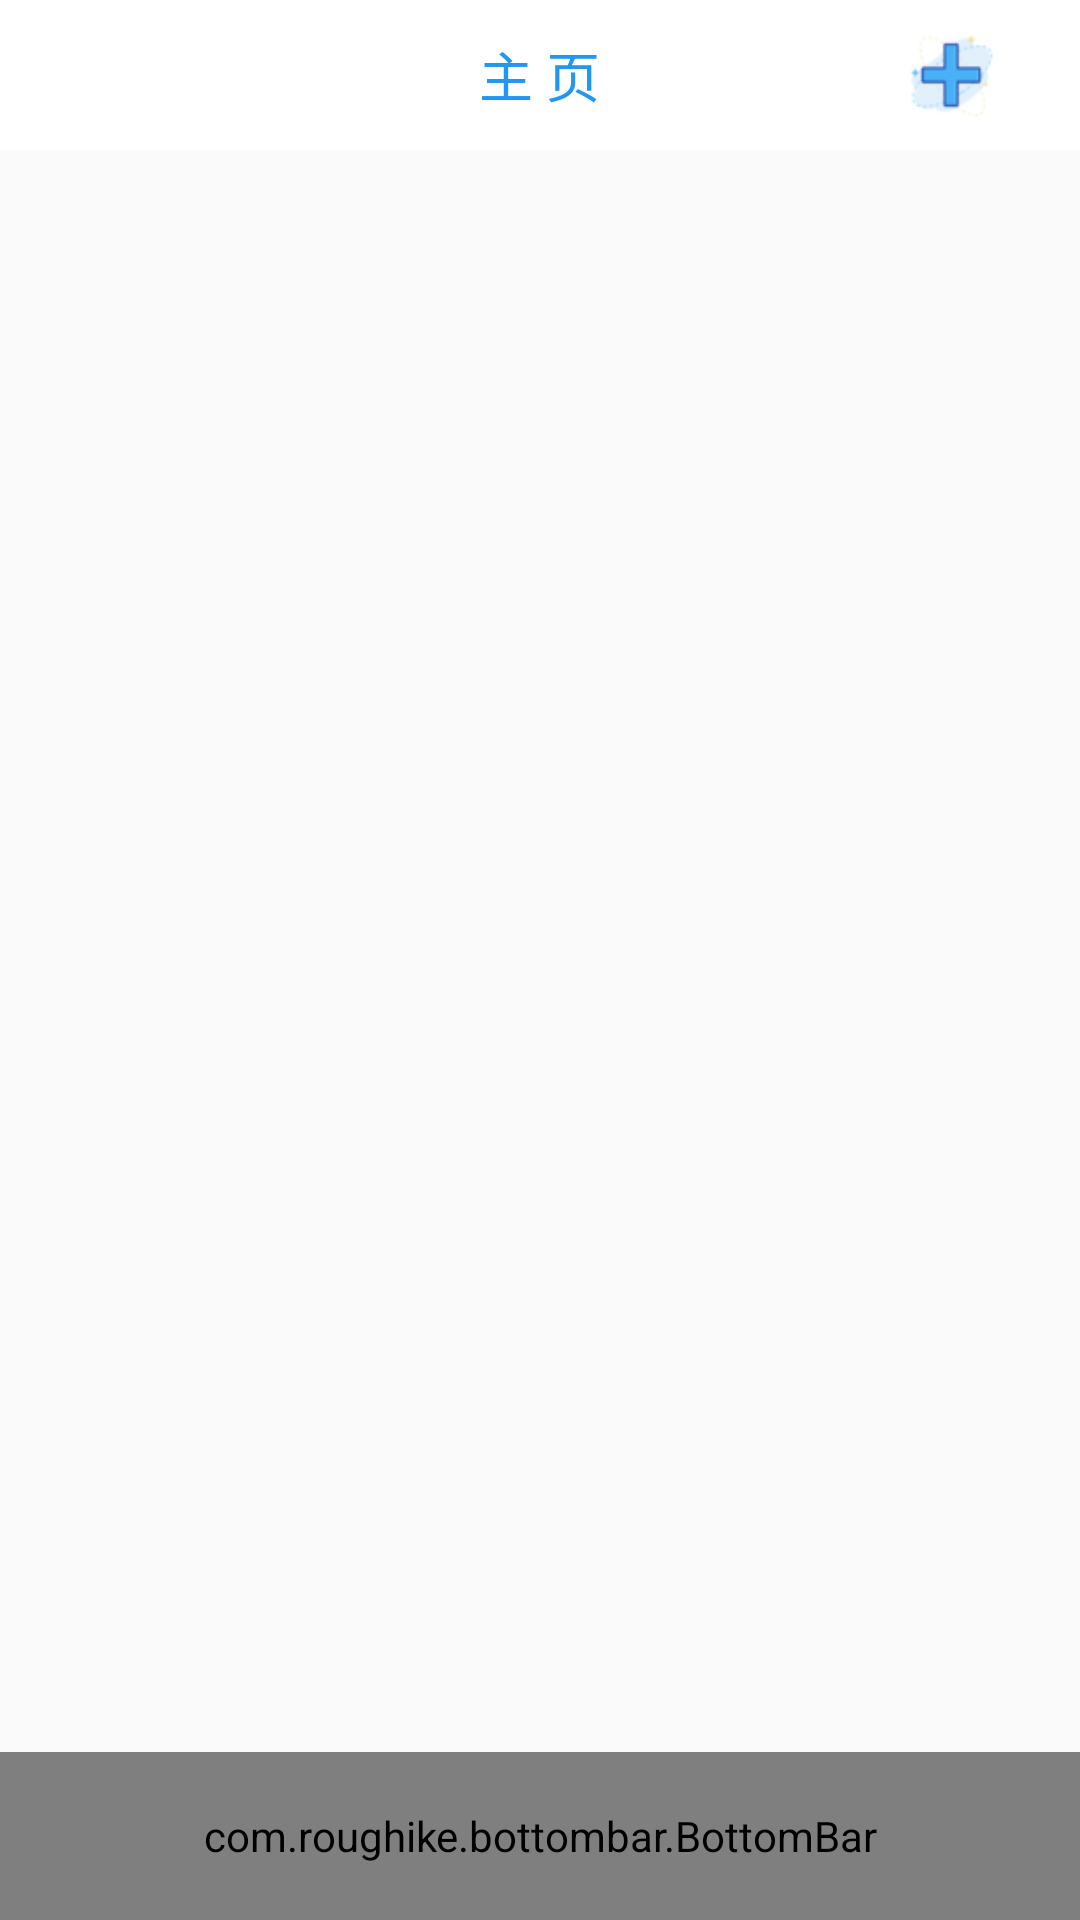

Point at icon controls on the screen. Image size 1080×1920, points as (x=x, y=y).
add: (x=952, y=76)
